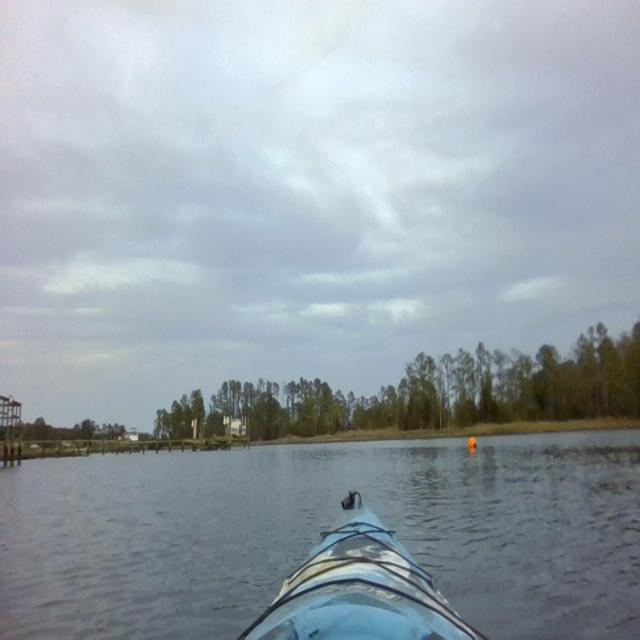Buoy: (467, 436, 478, 450)
